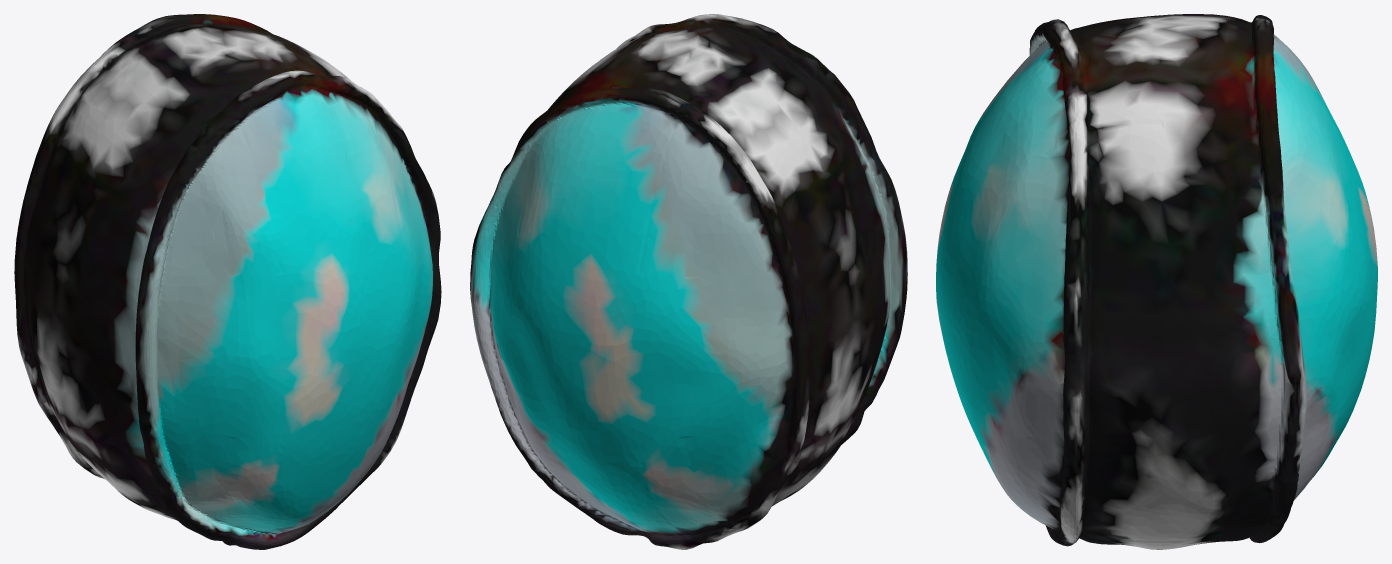
The model's file is opal.glb.
3 renders of one model, left to right at view 1: azimuth 30°, elevation 25°; view 2: azimuth 150°, elevation 25°; view 3: azimuth 270°, elevation 25°, orthographic. The views are drawn at different scales.
Parts seen in each view (by area): view 1: geometry_0; view 2: geometry_0; view 3: geometry_0.
Boxes of the visible parts, x1,y1,x2,y2 form: geometry_0: [14, 14, 441, 549]; geometry_0: [470, 14, 907, 549]; geometry_0: [936, 14, 1377, 549].
Bounding box in the file's own units: 0.5 × 0.6527 × 0.5178.
